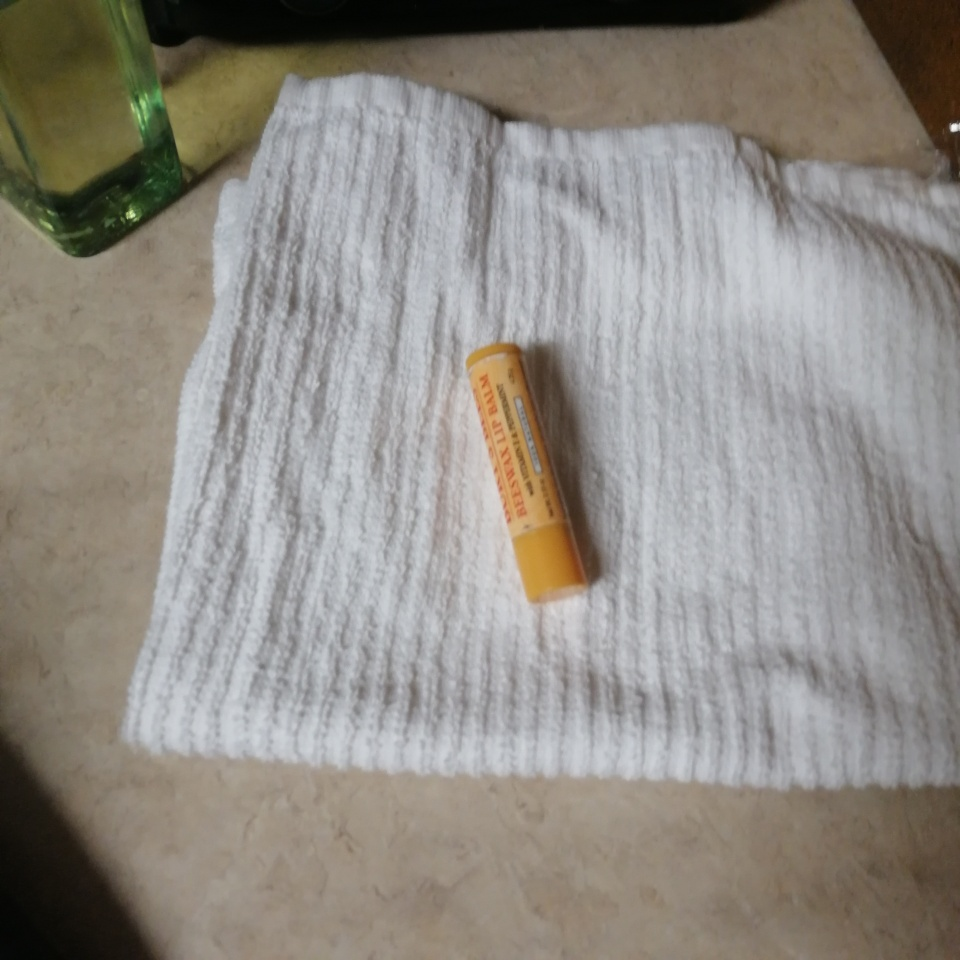chapstick: (465, 341, 592, 608)
